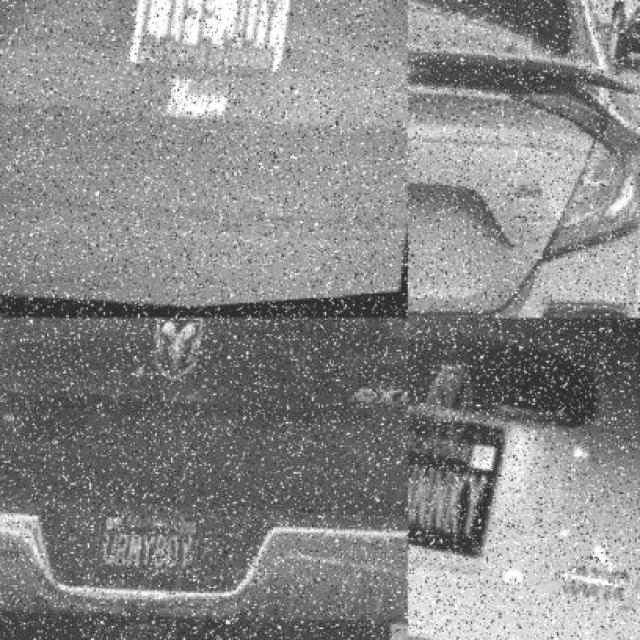licenseplate: (125, 0, 299, 89), (408, 404, 497, 572), (90, 507, 203, 588)
